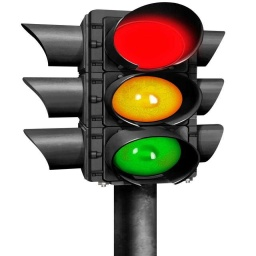traffic light: (21, 2, 228, 255)
